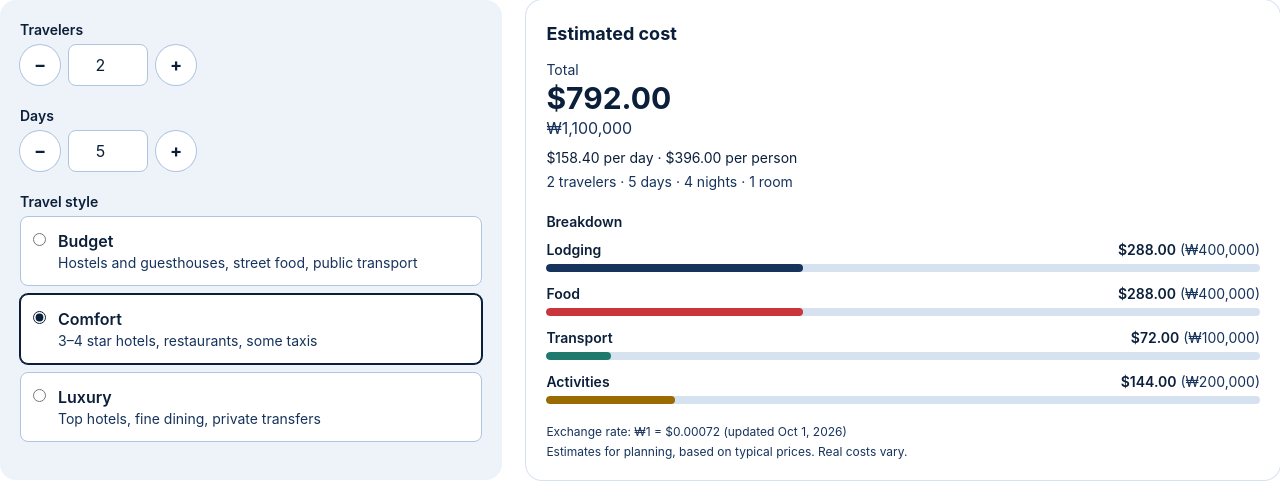
Test: CityCalculator › cancels the request in flight when the input changes (an old answer never wins)
Check: the text "$792.00" is shown, box [546,80,671,116]
Step 1. Click the button named "More days" → (176, 151), box [156,131,196,171]
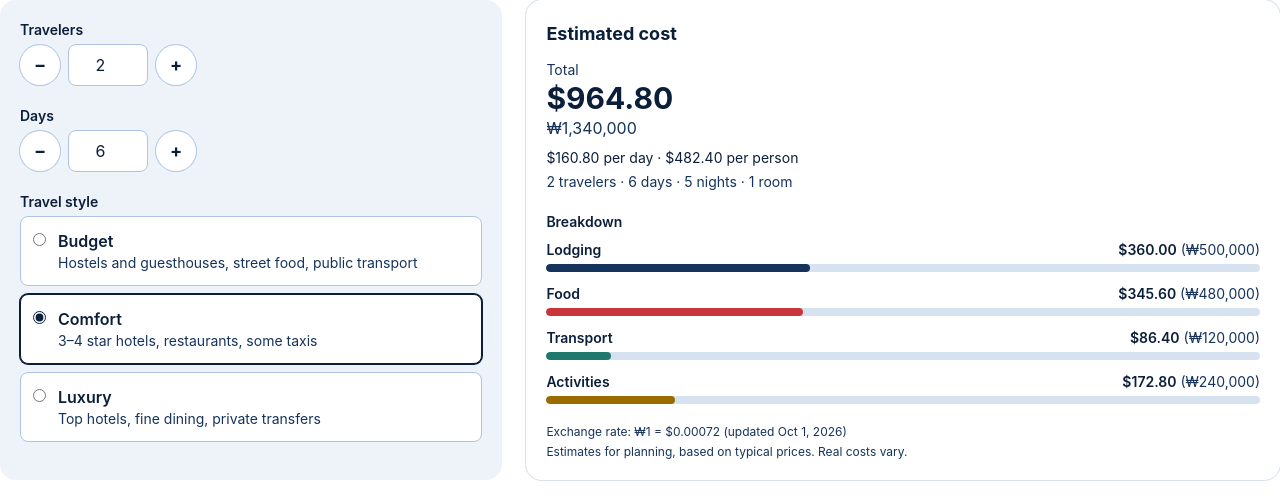
Step 2. Click the button named "More days" → (176, 151), box [156,131,196,171]
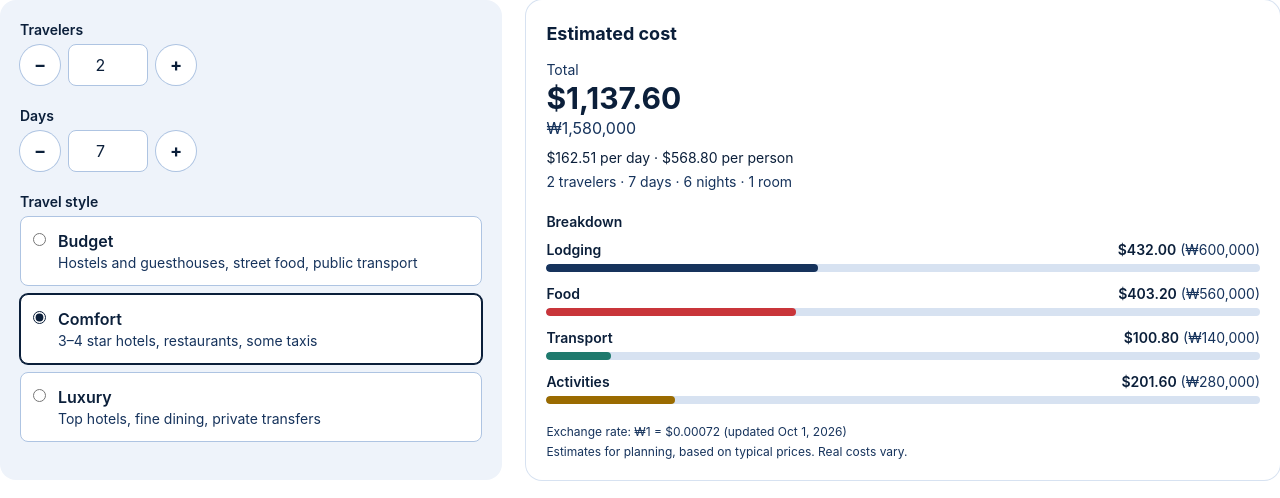
Check: the text "2 travelers · 7 days · 6 nights · 1 room" is shown, box [546,173,792,190]
Check: the text "6 days · 5 nights" is gone
